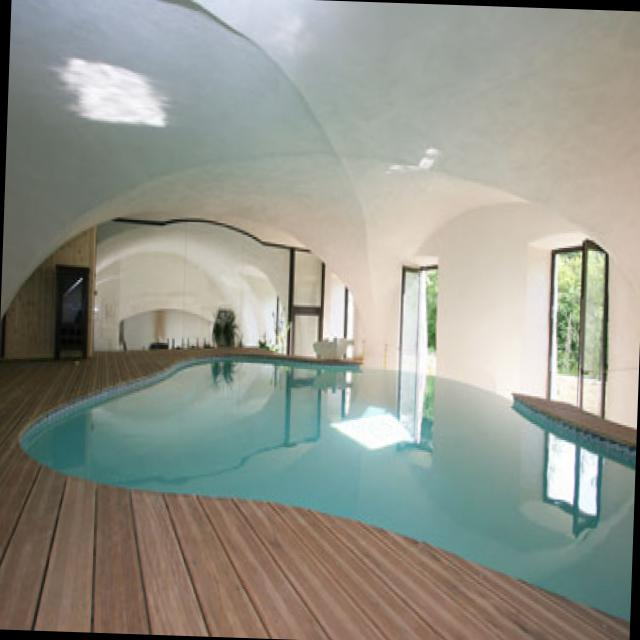ceiling beam: (5, 0, 640, 300)
door bars: (580, 238, 609, 413), (288, 246, 325, 354), (57, 264, 90, 356), (418, 264, 439, 373), (399, 263, 420, 368)
floor -X: (0, 342, 635, 640)
pane: (549, 246, 583, 404)
swimming pool: (26, 353, 634, 619)
wall clock: (4, 147, 640, 427), (94, 217, 356, 355)
